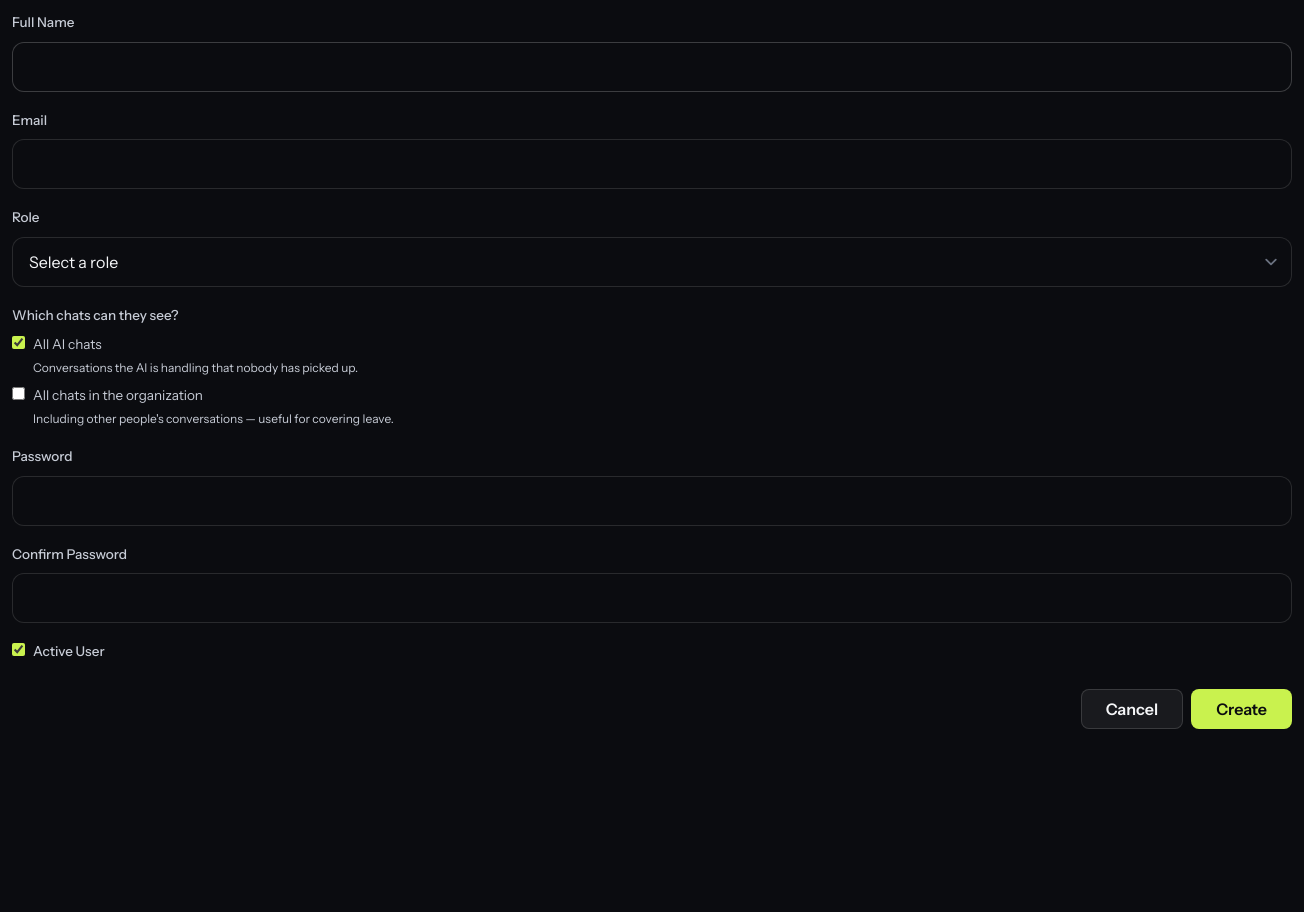
Test: UserForm – chat scope toggles › unticks the AI queue for a role that does not grant it
Select "Assigned only" in the dropdown with id "role" at (652, 262), box [12,237,1292,287]
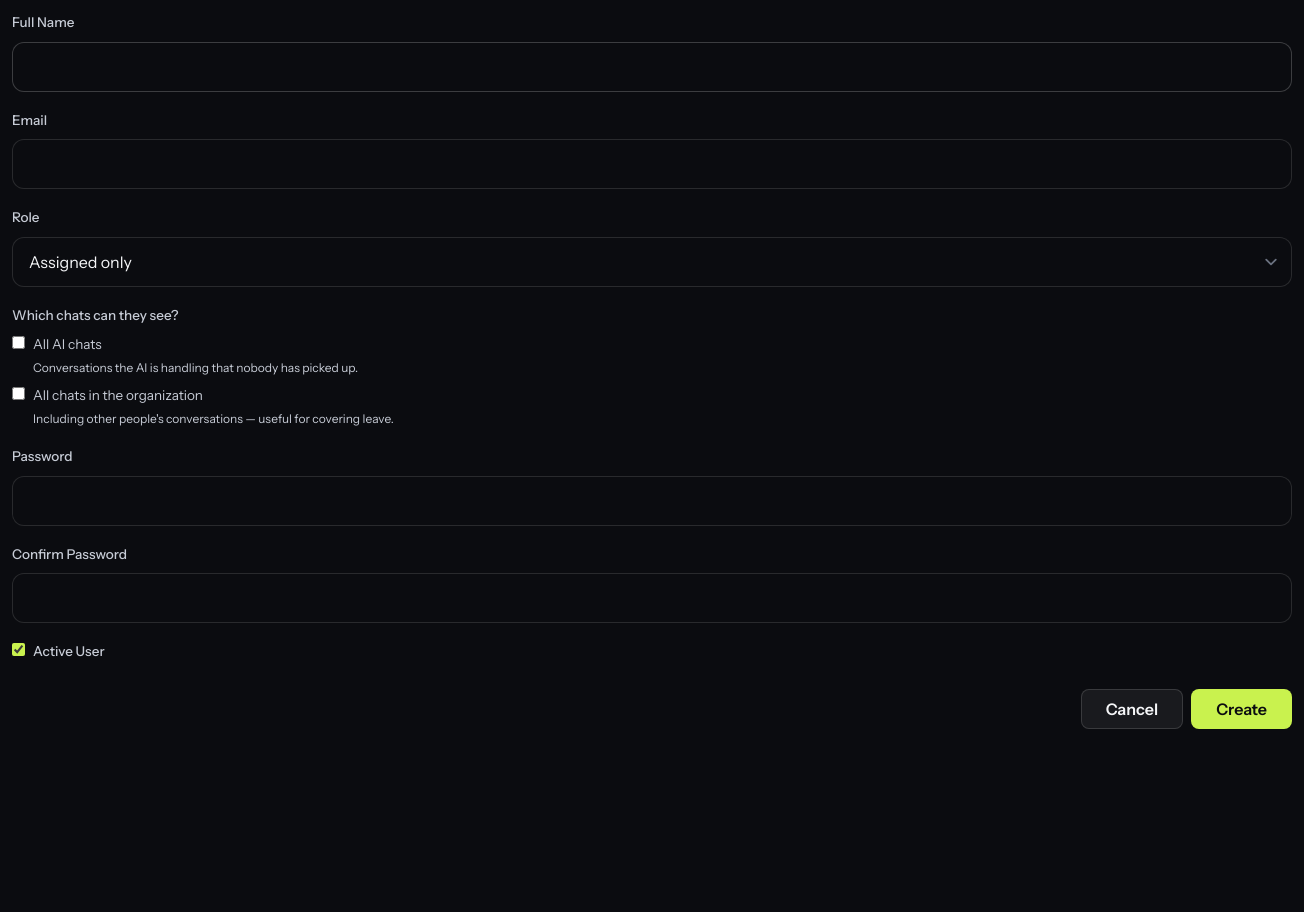
Now the 1st checkbox is not checked, box [12,336,25,349]
